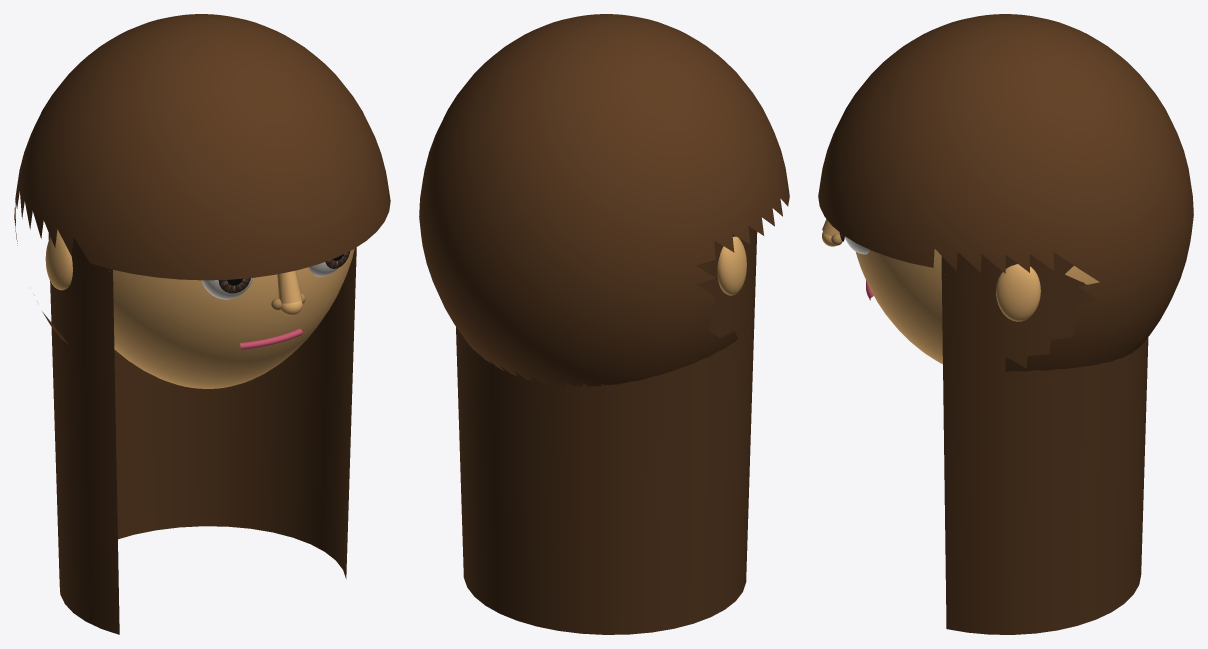
Rendered from femme-10-frange-et-longs.glb.
3 views of the same model, side by side, from view 1: azimuth 30°, elevation 25°; view 2: azimuth 150°, elevation 25°; view 3: azimuth 270°, elevation 25° (orthographic).
Size of the model in its own units: 0.3418 by 0.5605 by 0.3501.
Materials: 12 (1 with a texture image).
